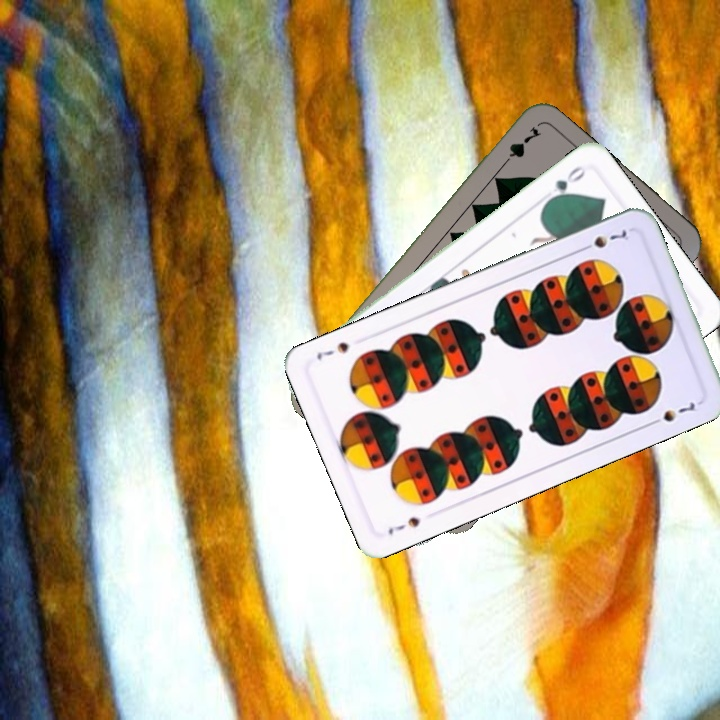G7: (496, 122, 544, 171)
GO: (541, 161, 589, 207)
S7: (576, 226, 633, 254), (384, 512, 423, 538)
